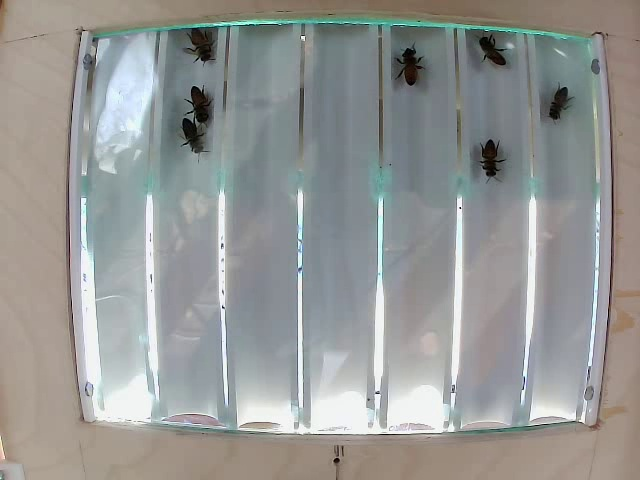bee: (194, 24, 238, 74), (479, 138, 514, 193), (389, 48, 426, 93), (548, 92, 582, 139), (175, 118, 206, 163), (476, 38, 503, 79), (187, 93, 222, 123)
